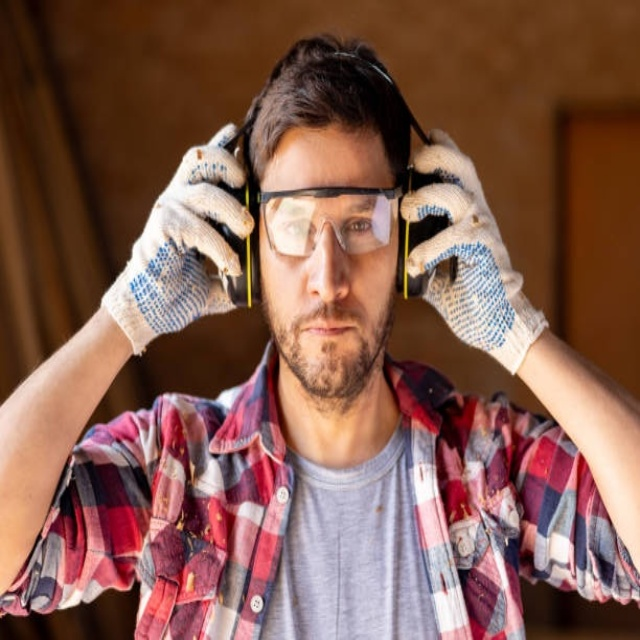Gafas: (258, 186, 405, 258)
Guantes: (398, 128, 551, 375), (100, 122, 256, 356)
Sin_mascara: (292, 299, 368, 398)
